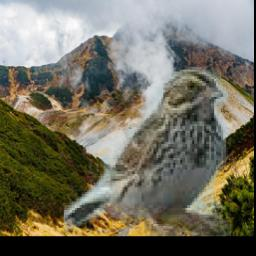Sparrow: (64, 67, 231, 236)
